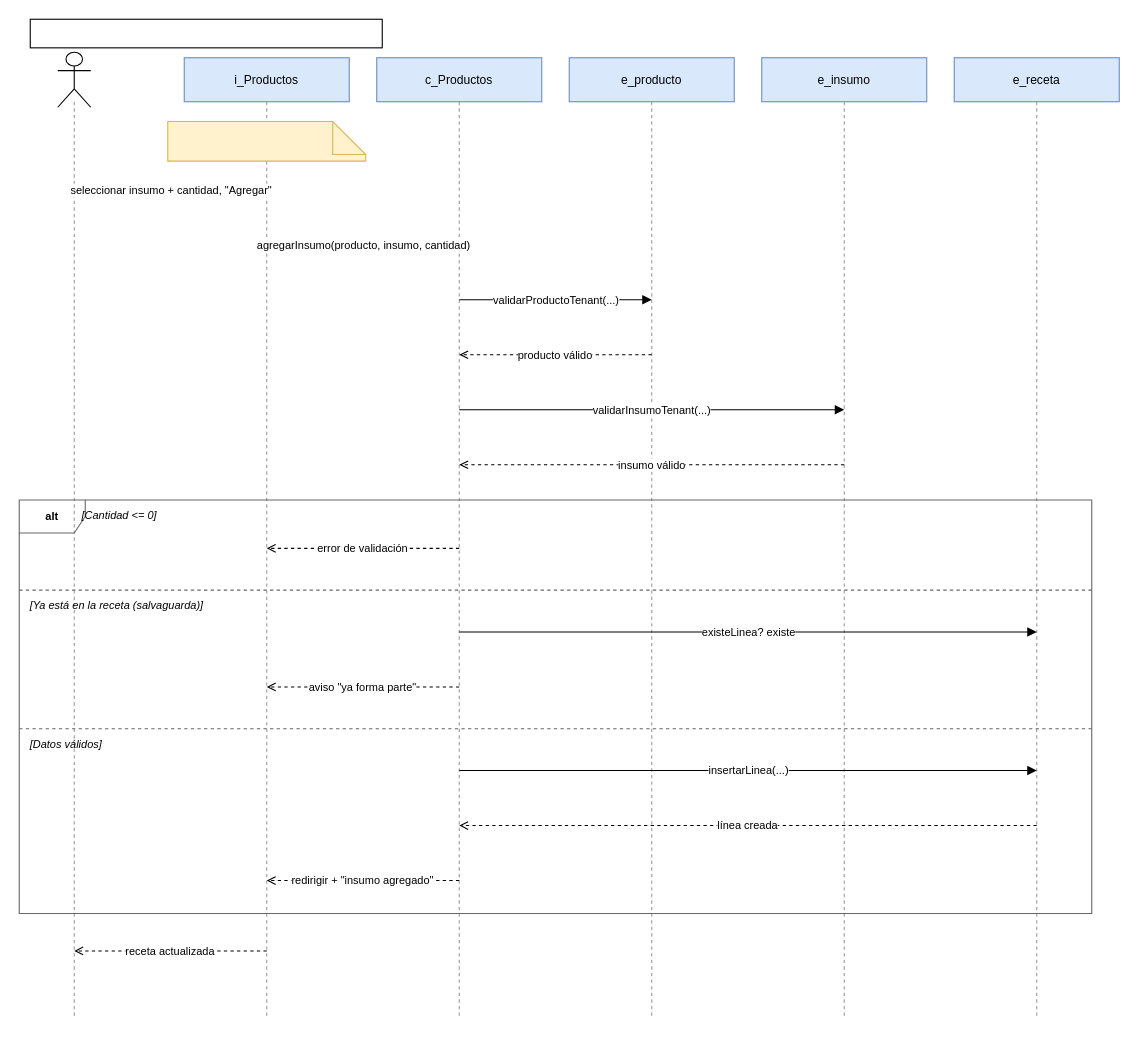
Some shapes in this 1139 by 1037 pixel diagram are drawn without their labels. Each missing label, with the centre of its shape:
Administrador: point (74, 79)
El desplegable solo ofrece insumos aún NO incluidos: point (266, 140)
Secuencia - Agregar Insumo a Receta (CU-10): point (205, 33)
